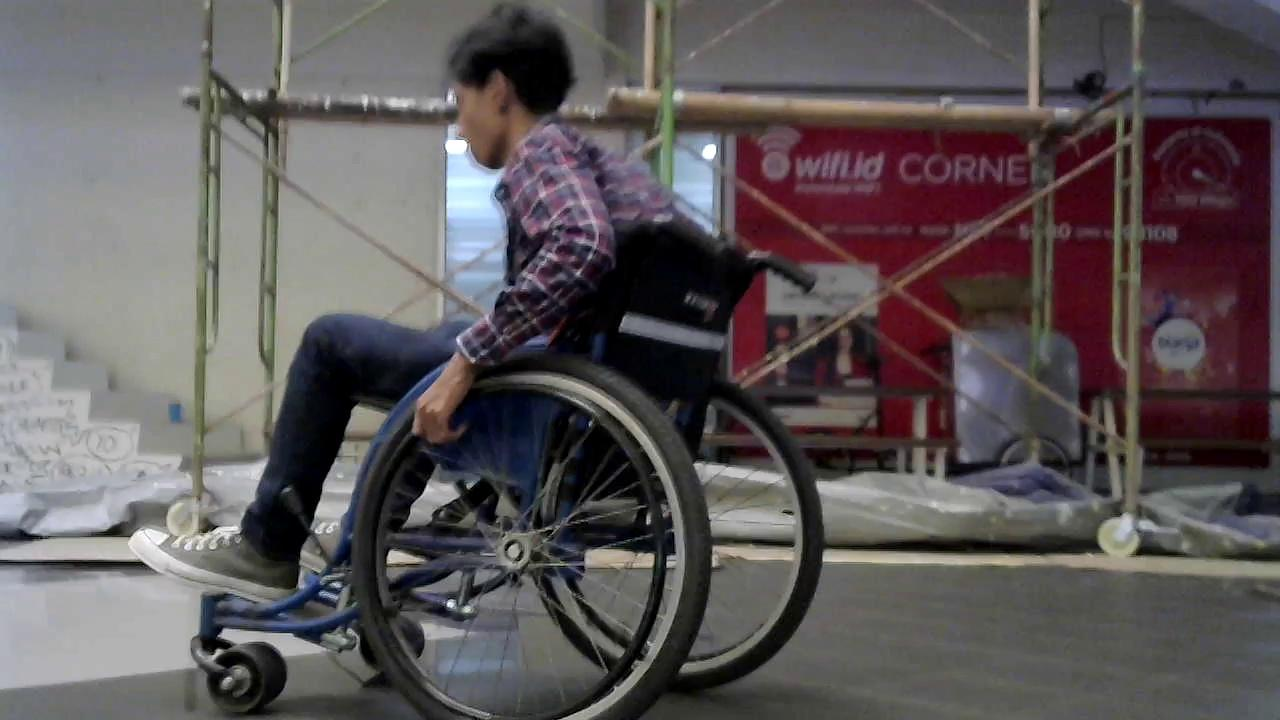person: (133, 2, 815, 626)
wheelchair: (165, 209, 839, 720)
